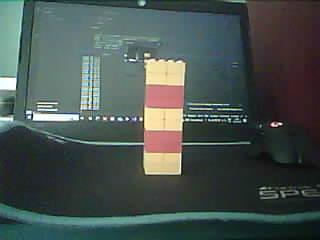lego: (144, 59, 186, 176)
